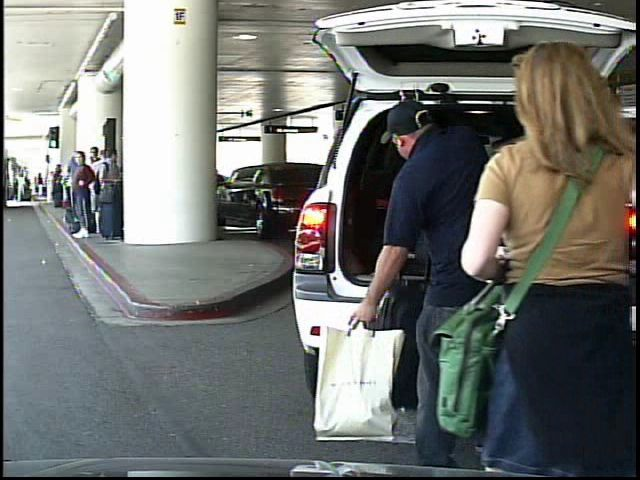person: (354, 99, 551, 463), (17, 174, 28, 205), (35, 172, 46, 199)
